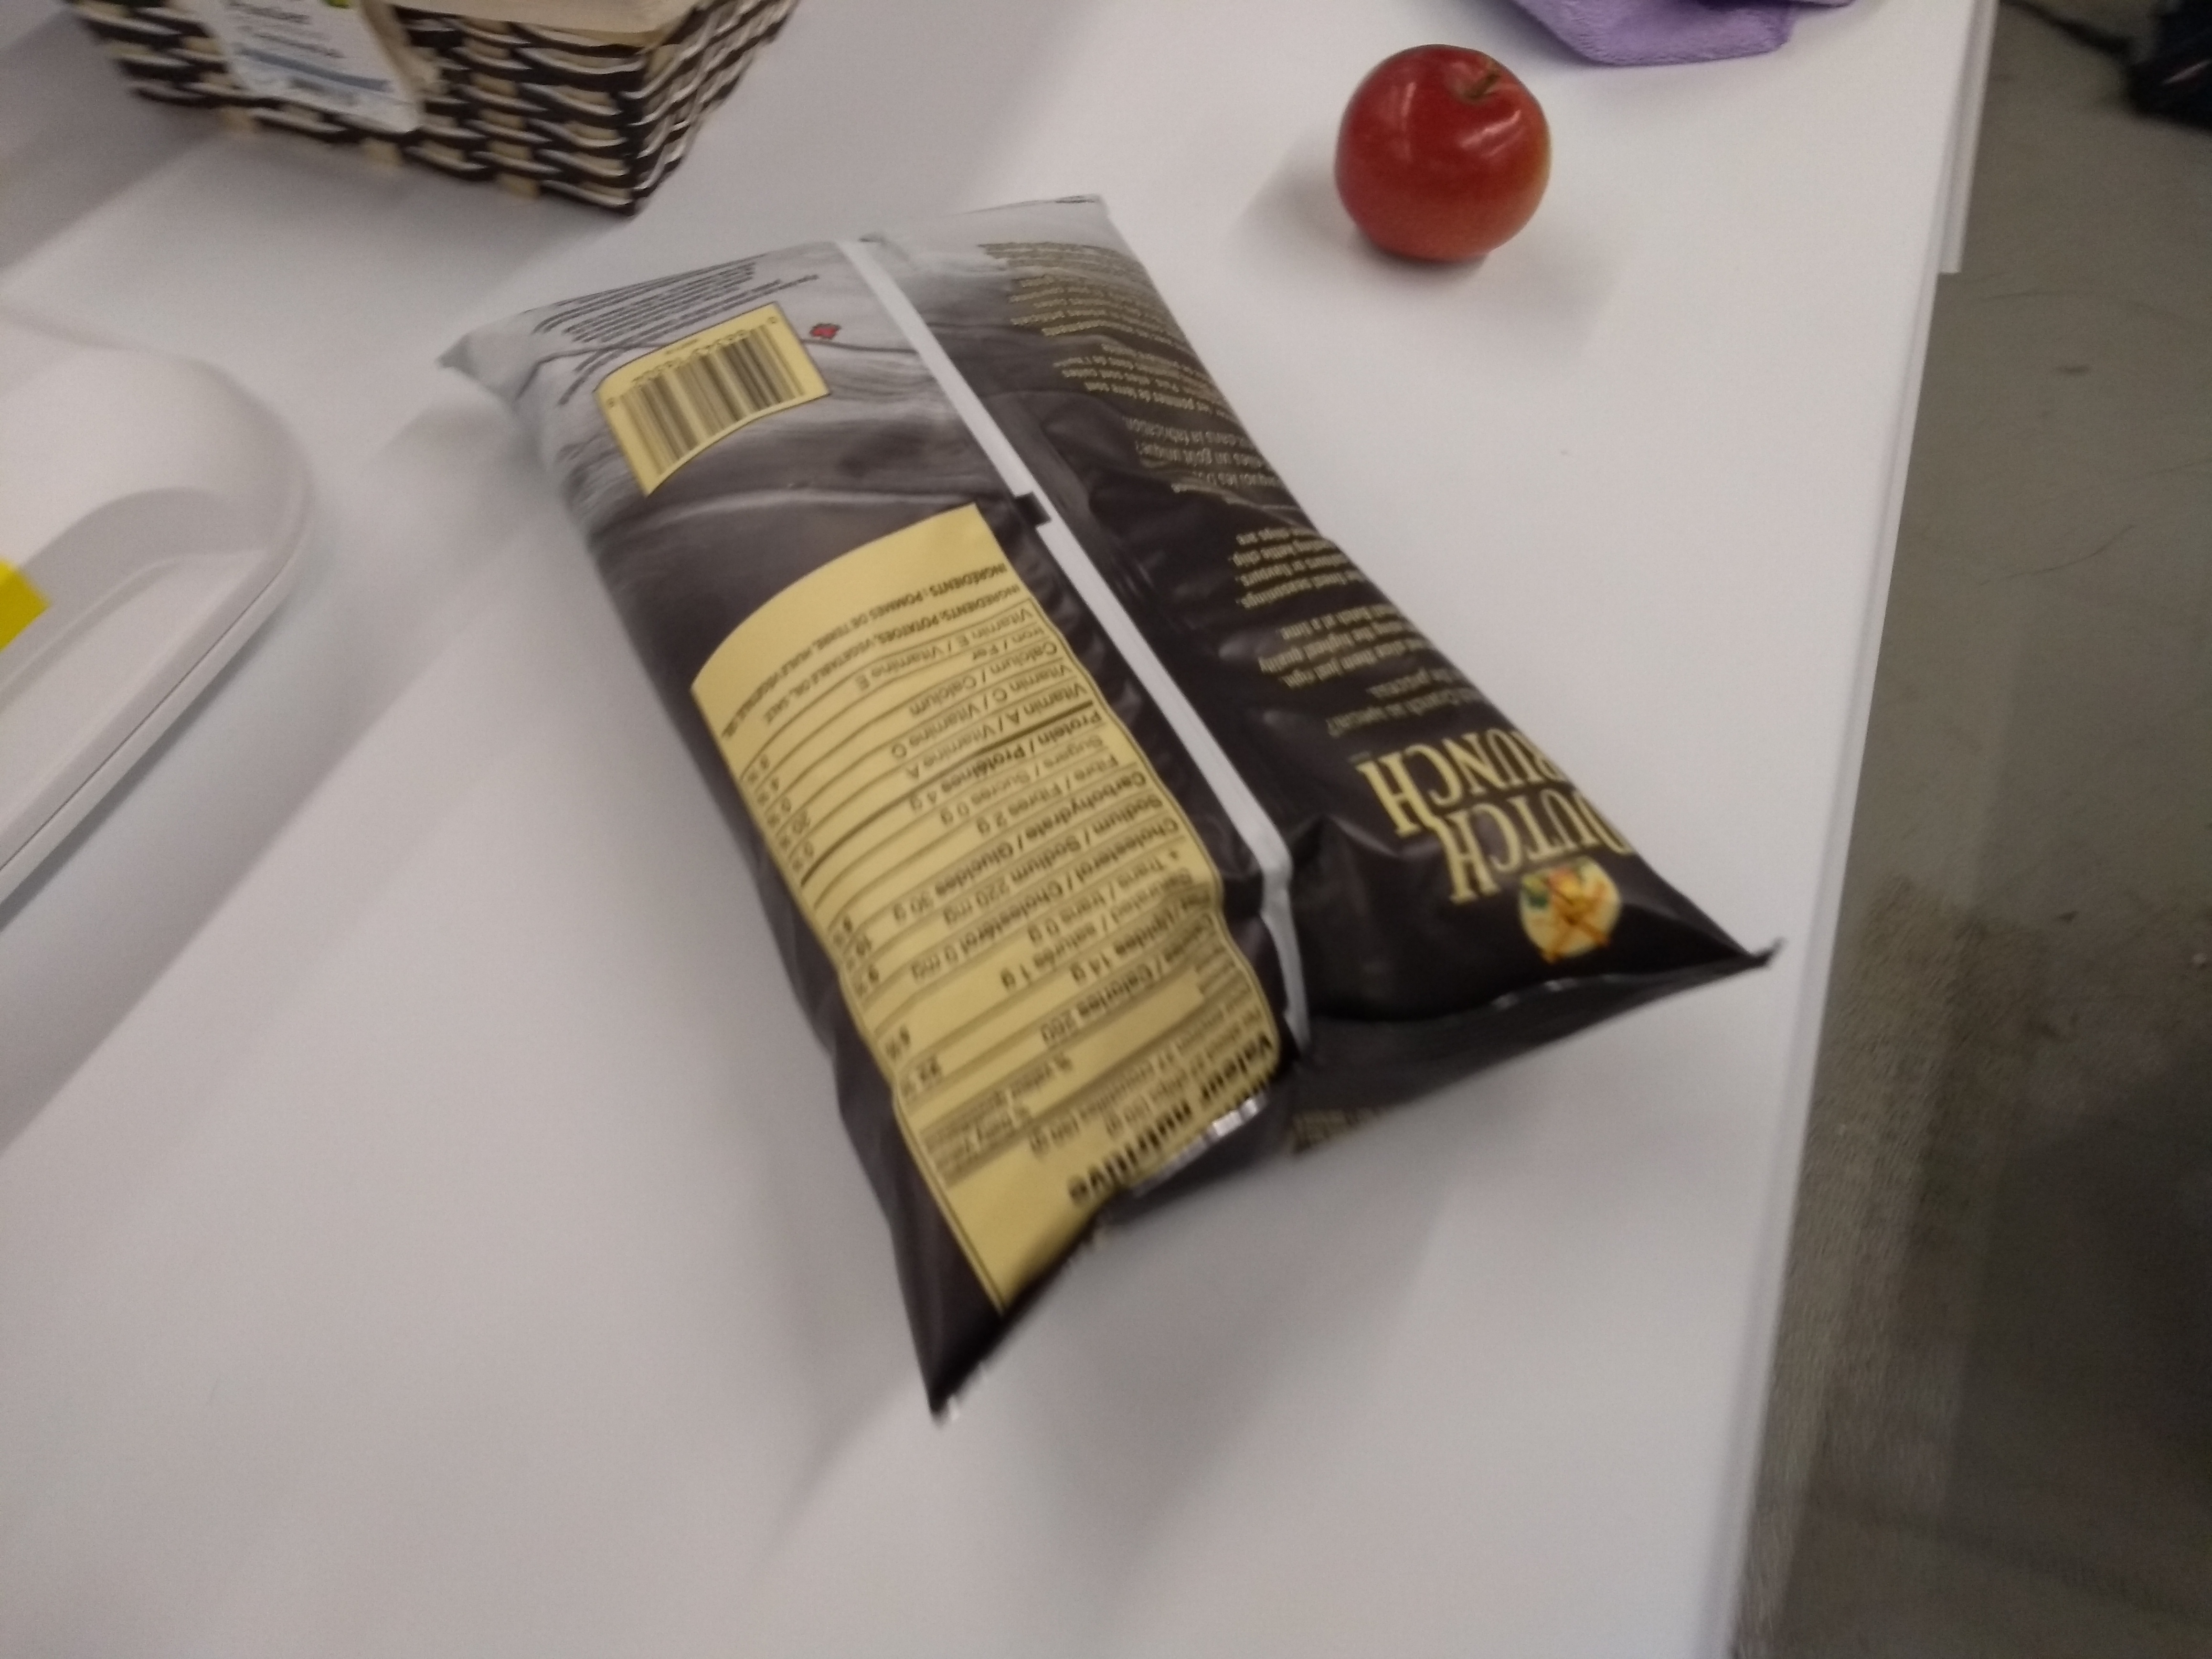apple: (1325, 31, 1569, 289)
potato_chips: (430, 173, 1804, 1432)
